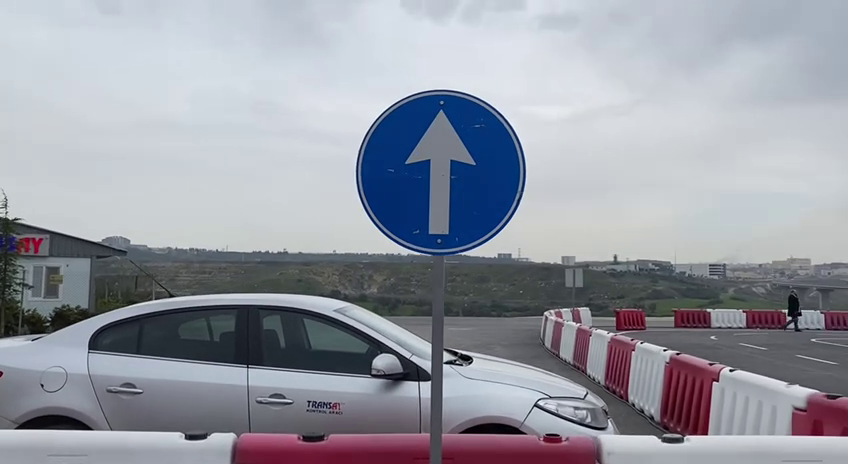forward: (350, 82, 532, 260)
